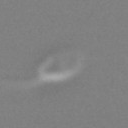normal: (1, 73, 42, 92)
